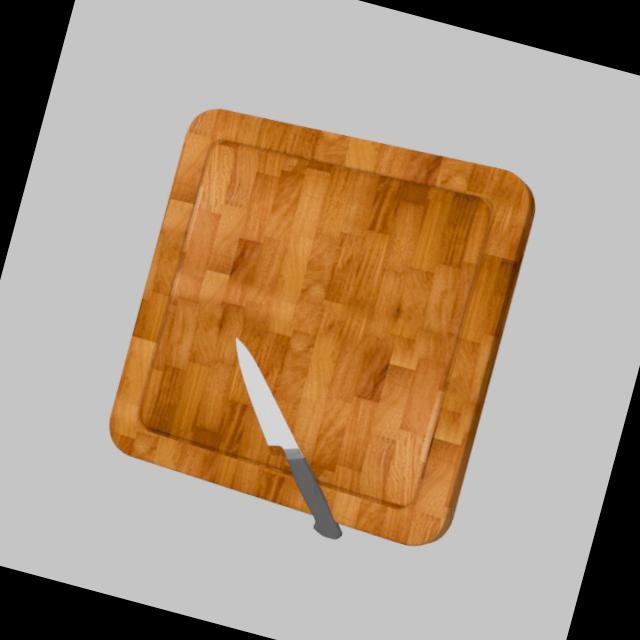knife: (270, 452, 359, 540)
